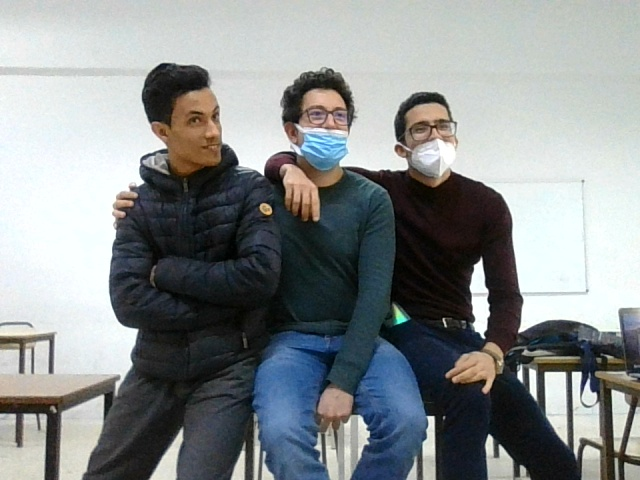mask_weared_incorrect: (389, 92, 480, 194), (273, 73, 359, 168)
without_mask: (139, 60, 245, 171)
